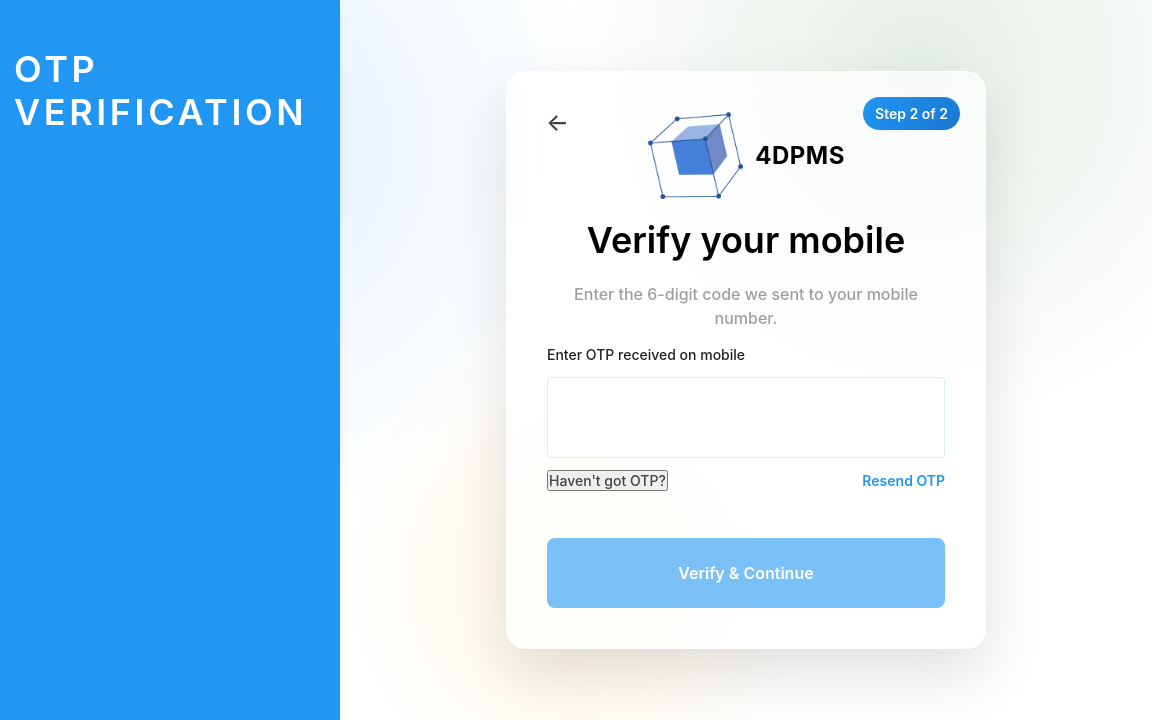
Test: OTPVerify Component › restricts OTP input to 6 digits
Type "123456789" into the field labelled "Enter OTP received on mobile" at coordinates (746, 417), box [547,377,945,458]
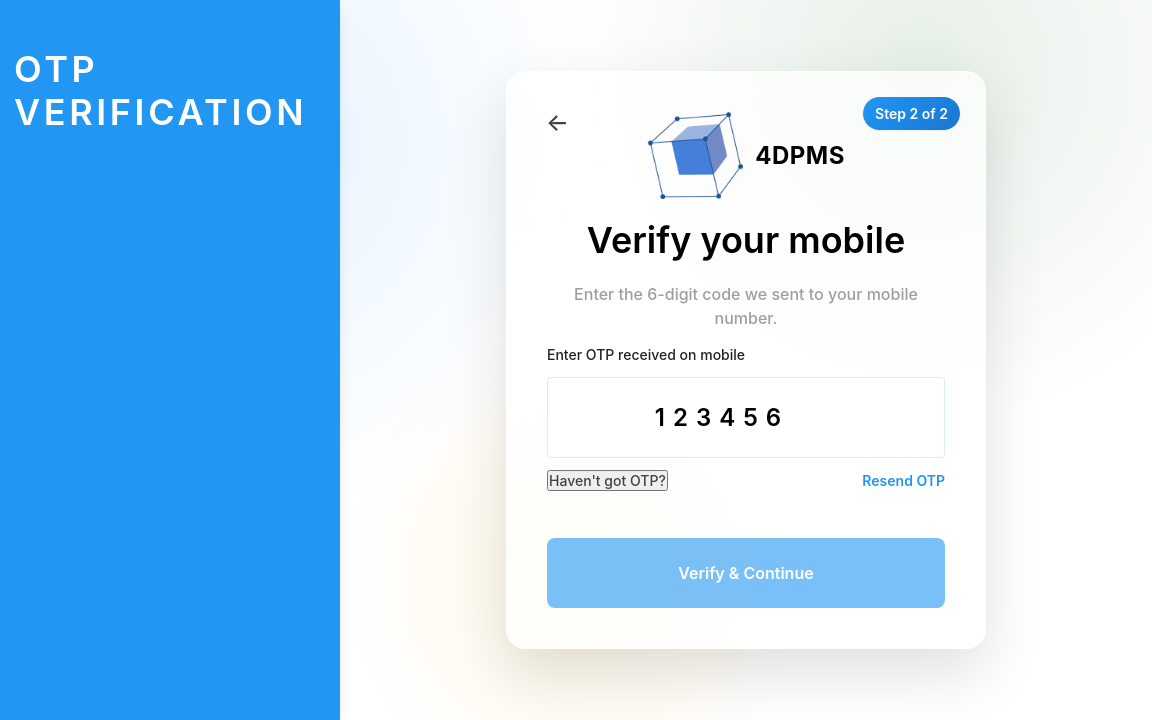
Check: the field labelled "Enter OTP received on mobile" holds "123456", box [547,377,945,458]
